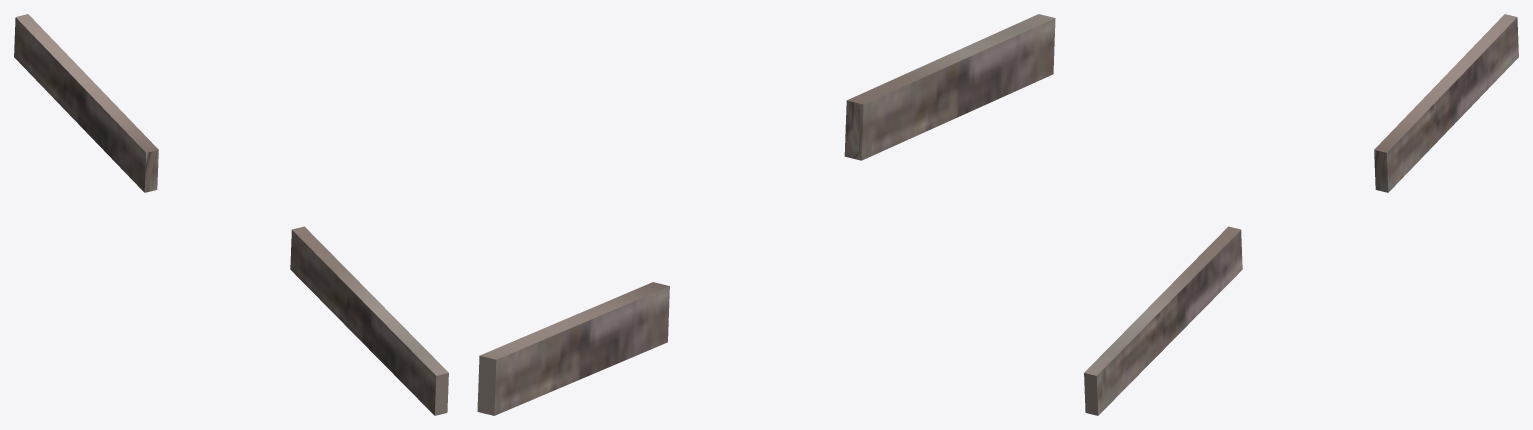
File: board_break.glb
3 renders of one model, left to right at view 1: azimuth 30°, elevation 25°; view 2: azimuth 150°, elevation 25°; view 3: azimuth 330°, elevation 25°, orthographic. The views are drawn at different scales.
Parts seen in each view (by area): view 1: Cube_003; view 2: Cube_003; view 3: Cube_003.
Boxes of the visible parts, x1=… form: Cube_003: x1=14, y1=14, x2=448, y2=415; Cube_003: x1=477, y1=14, x2=1055, y2=415; Cube_003: x1=1084, y1=14, x2=1518, y2=415.
Bounding box in the file's own units: 0.0409 × 0.2835 × 2.36.
1 material, 1 textured.
